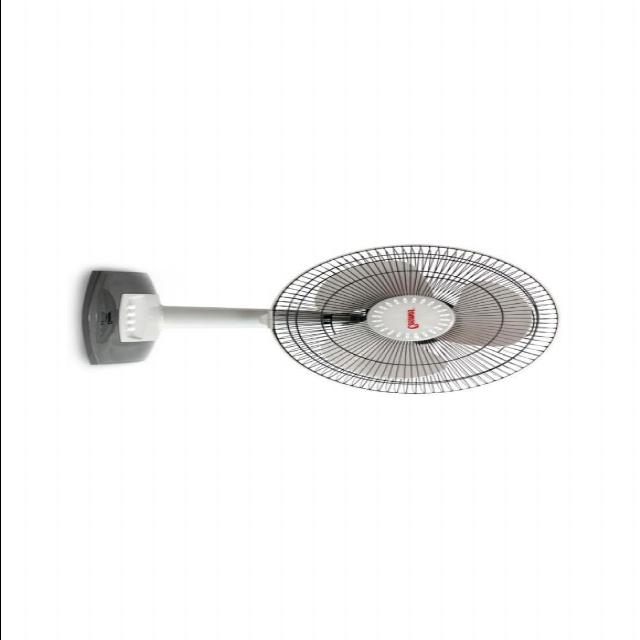fan: (64, 245, 564, 394)
